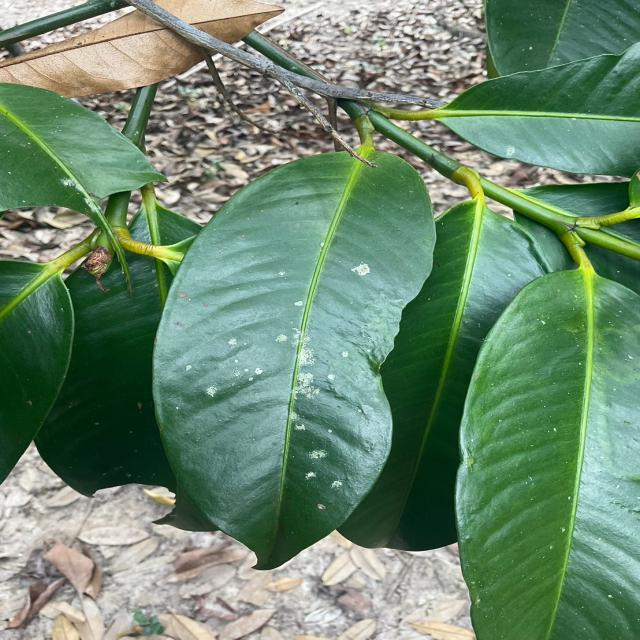Leaf Spot: (261, 251, 375, 513), (183, 334, 260, 423)
